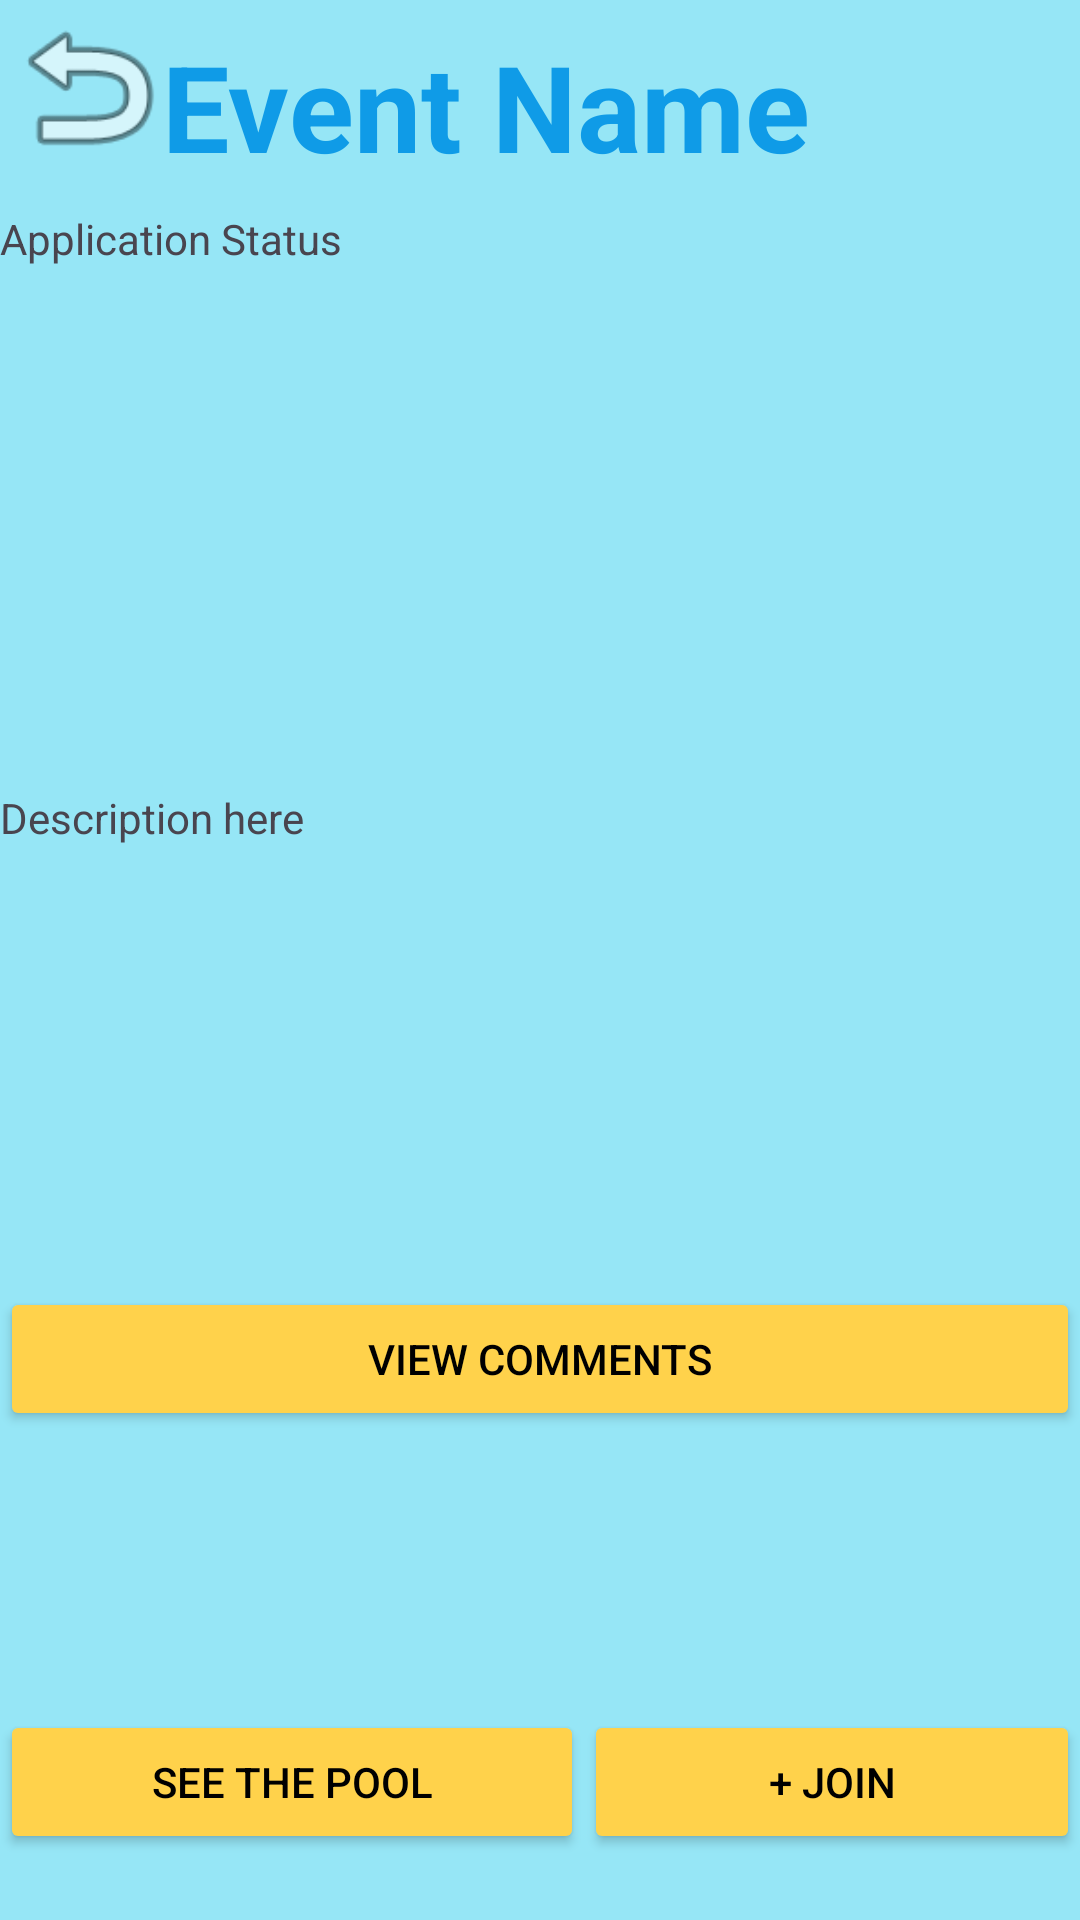

Point at icon controls on the screen. Image size 1080px x 1920px, points as (x=x, y=y).
revert: (x=91, y=88)
